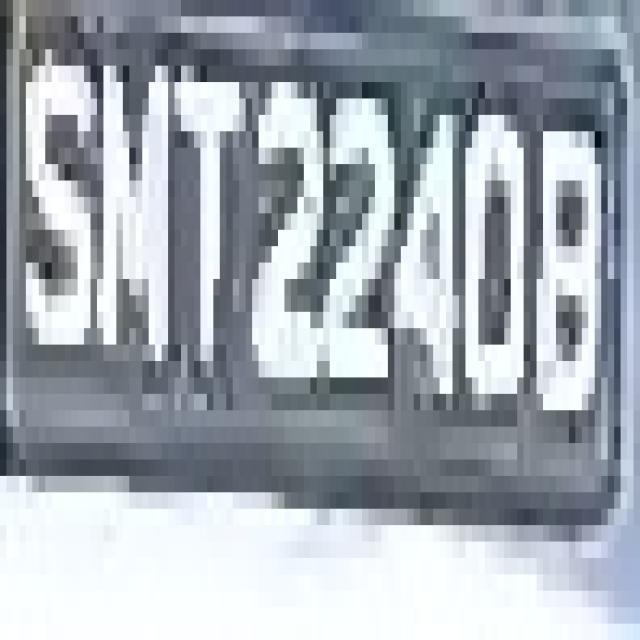0: (466, 115, 530, 410)
2: (310, 66, 394, 476), (233, 49, 323, 410)
4: (388, 33, 472, 410)
B: (524, 66, 608, 460)
M: (84, 33, 175, 361)
S: (13, 16, 97, 361)
T: (168, 33, 252, 344)
